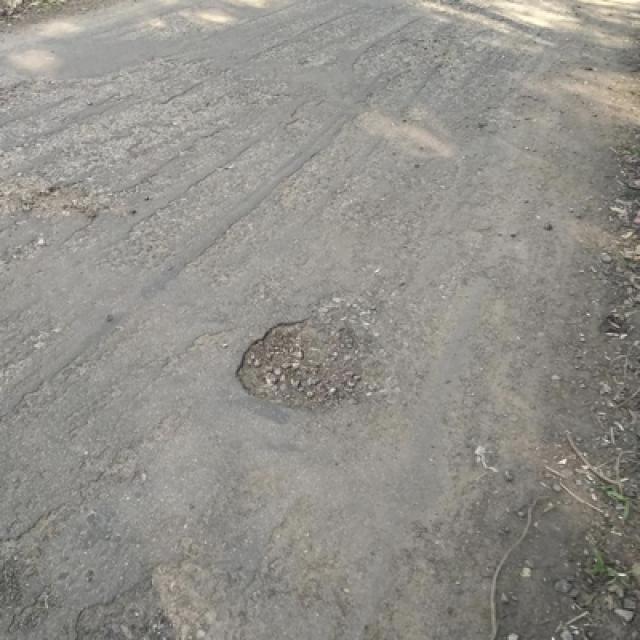objects: (237, 317, 367, 414)
